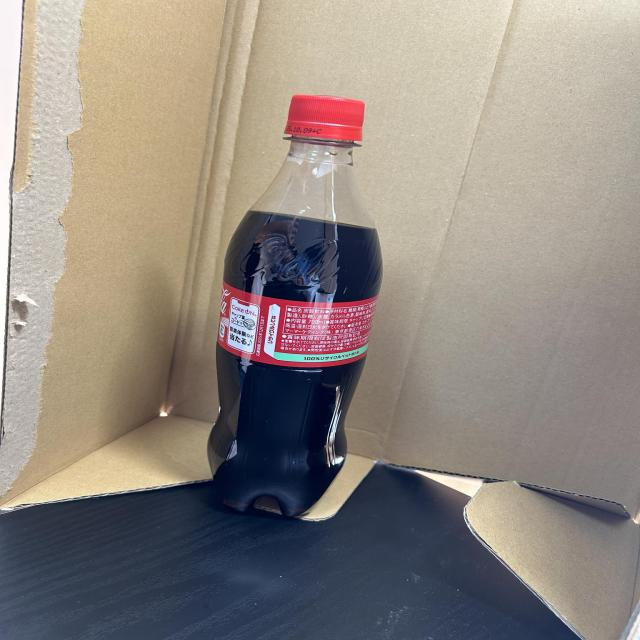high: (208, 95, 382, 517)
